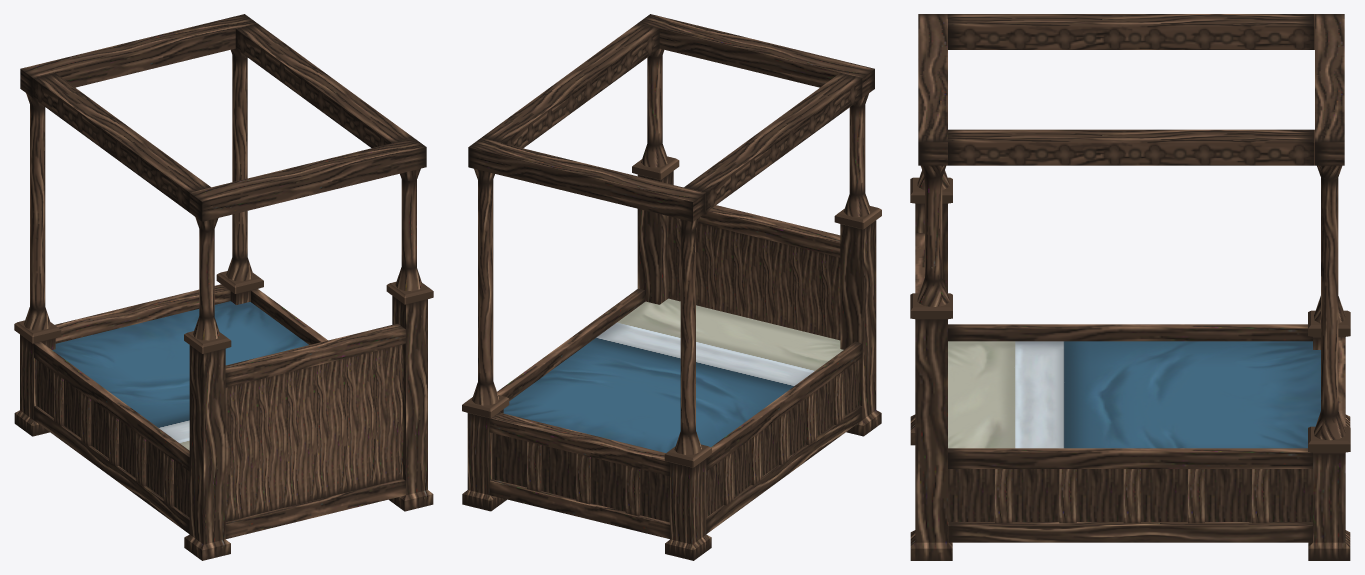
File: bed.fbx
The picture shows the model from 3 angles, left to right: view 1: azimuth 30°, elevation 25°; view 2: azimuth 150°, elevation 25°; view 3: azimuth 270°, elevation 25°; orthographic projection. The views are drawn at different scales.
Visible parts, largest first — view 1: bed; view 2: bed; view 3: bed.
Part boxes in pixels (x1,y1,x2,y2): bed: (14,14,433,560); bed: (462,14,881,560); bed: (910,14,1350,560).
Size of the model in its own units: 1.79 by 2.63 by 2.52.
1 material, 1 textured.
